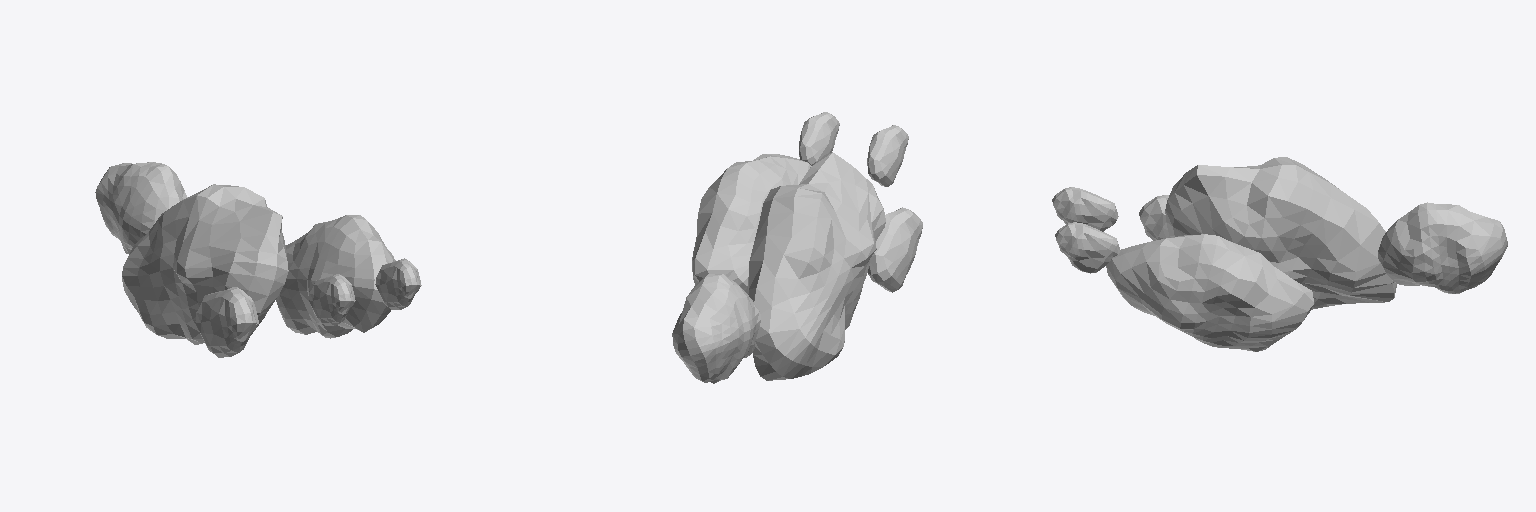
File: cloud.obj
The picture shows the model from 3 angles: view 1: azimuth 30°, elevation 25°; view 2: azimuth 150°, elevation 25°; view 3: azimuth 270°, elevation 25°; orthographic projection.
Visible parts, largest first — view 1: uploads_files_721601_cloud; view 2: uploads_files_721601_cloud; view 3: uploads_files_721601_cloud.
Part boxes in pixels (x1,y1,x2,y2): uploads_files_721601_cloud: (95, 162, 421, 357); uploads_files_721601_cloud: (672, 112, 922, 383); uploads_files_721601_cloud: (1052, 157, 1507, 351).
Bounding box in the file's own units: 1.23 × 1.01 × 2.61.